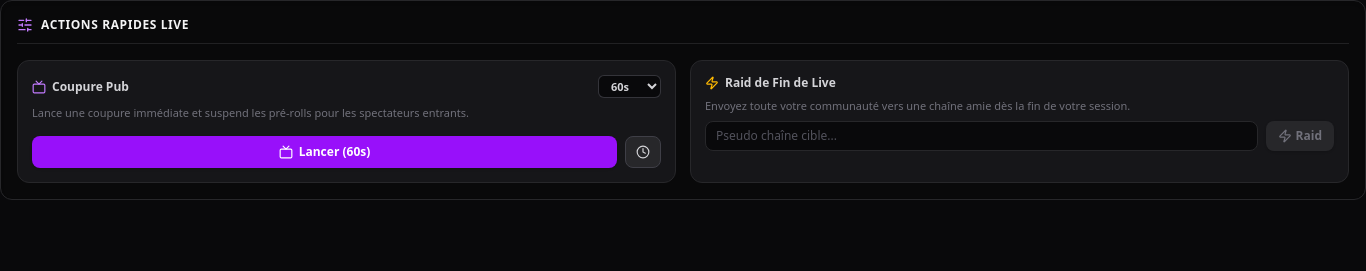
Test: 🧩 Composant : TwitchQuickActions.vue › doit lancer un raid et basculer sur le bouton d'annulation
Step 1. Type "ZeratoR" into the field with placeholder "Pseudo chaîne cible..." → (981, 136), box [705, 121, 1258, 151]
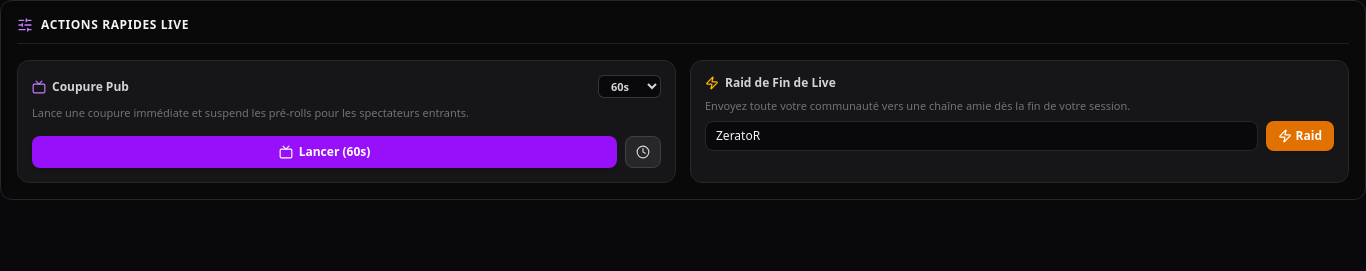
Step 2. Click the button "Raid" → (1300, 136), box [1266, 121, 1334, 151]
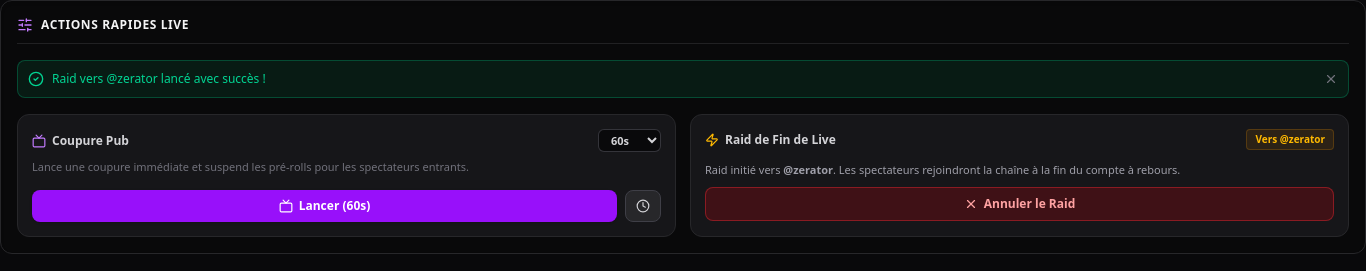
expect the text "Raid vers @zerator lancé" is shown: met, box [52, 70, 266, 87]
expect the button "Annuler le Raid" is shown: met, box [705, 186, 1334, 220]
